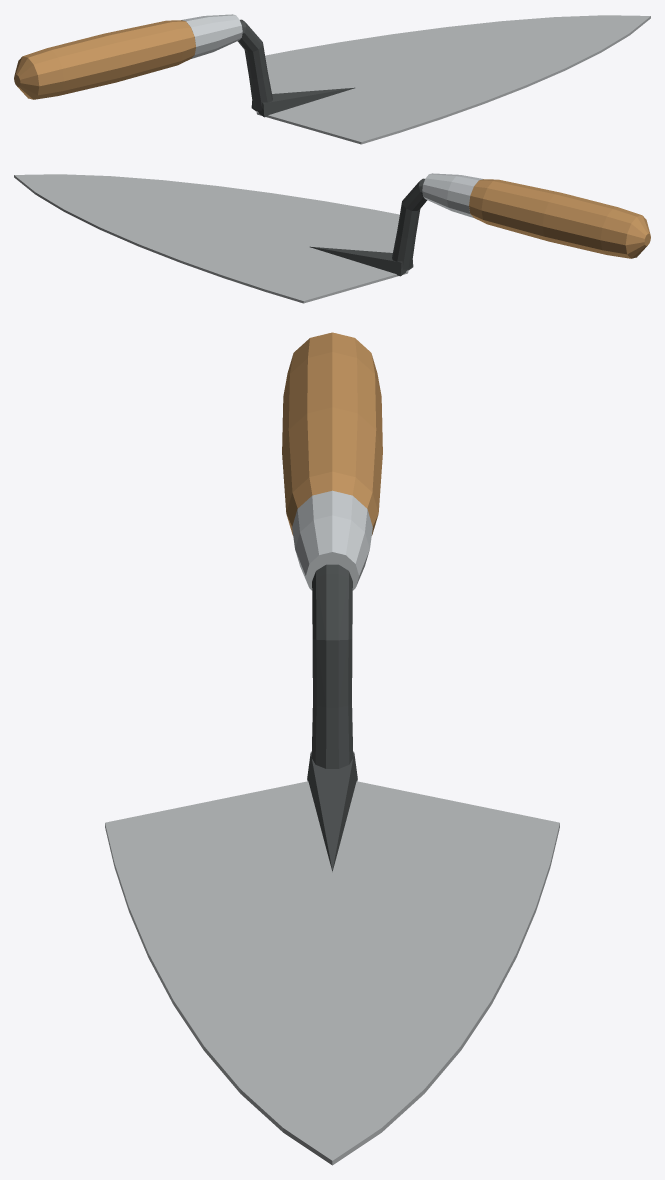
3 renders of one model, top to bottom at view 1: azimuth 30°, elevation 25°; view 2: azimuth 150°, elevation 25°; view 3: azimuth 270°, elevation 25°, orthographic. The views are drawn at different scales.
Visible parts, largest first — view 1: Thin_pointed_Philadelphia_blade, Closed_barrel_shaped_wooden_grip, Tapered_steel_handle_ferrule, Raised_offset_forged_shank, Triangular_forged_blade_seat; view 2: Thin_pointed_Philadelphia_blade, Closed_barrel_shaped_wooden_grip, Tapered_steel_handle_ferrule, Raised_offset_forged_shank, Triangular_forged_blade_seat; view 3: Thin_pointed_Philadelphia_blade, Closed_barrel_shaped_wooden_grip, Raised_offset_forged_shank, Tapered_steel_handle_ferrule, Triangular_forged_blade_seat.
Boxes of the visible parts, x1,y1,x2,y2 form: Thin_pointed_Philadelphia_blade: (256,15,650,144); Closed_barrel_shaped_wooden_grip: (14,20,195,99); Tapered_steel_handle_ferrule: (181,14,242,58); Raised_offset_forged_shank: (237,19,272,110); Triangular_forged_blade_seat: (251,87,354,117); Thin_pointed_Philadelphia_blade: (14,174,408,303); Closed_barrel_shaped_wooden_grip: (469,179,650,258); Tapered_steel_handle_ferrule: (422,173,483,217); Raised_offset_forged_shank: (392,178,427,269); Triangular_forged_blade_seat: (310,246,413,276); Thin_pointed_Philadelphia_blade: (105,781,559,1165); Closed_barrel_shaped_wooden_grip: (282,332,382,535); Raised_offset_forged_shank: (311,564,353,768); Tapered_steel_handle_ferrule: (292,490,372,590); Triangular_forged_blade_seat: (307,752,357,871).
Bounding box in the file's own units: 0.4494 × 0.078 × 0.1397.
